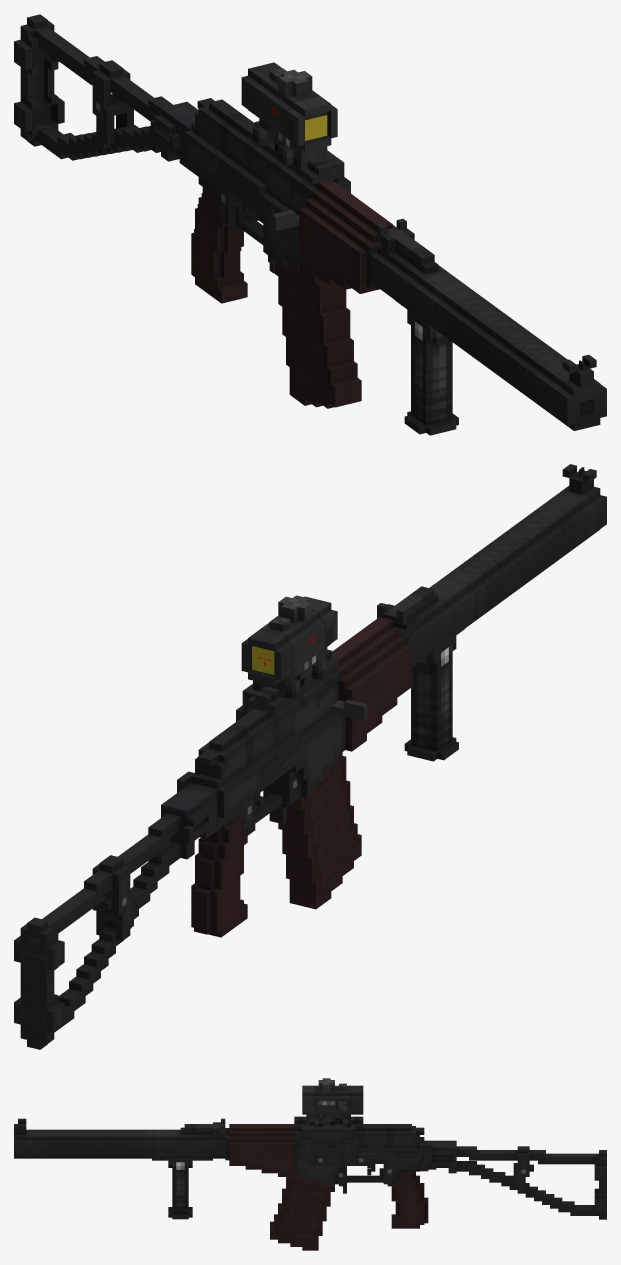
The model's file is RD_ASVAL.glb.
The picture shows the model from 3 angles, top to bottom: view 1: azimuth 30°, elevation 25°; view 2: azimuth 150°, elevation 25°; view 3: azimuth 270°, elevation 25°; orthographic projection. The views are drawn at different scales.
Visible parts, largest first — view 1: ASVAL, ASVAL_CLIP, SCOPE_TASCO, GRIP1, ASVAL_PLANK, SCOPE_AIMPOINT; view 2: ASVAL, ASVAL_CLIP, SCOPE_TASCO, GRIP1, ASVAL_PLANK; view 3: ASVAL, ASVAL_CLIP, ASVAL_PLANK (×2), SCOPE_TASCO, GRIP1, SCOPE_AIMPOINT.
Part boxes in pixels (x1,y1,x2,y2): ASVAL: [14, 14, 606, 430]; ASVAL_CLIP: [274, 262, 361, 408]; SCOPE_TASCO: [241, 62, 337, 165]; GRIP1: [395, 300, 458, 435]; ASVAL_PLANK: [248, 121, 350, 193]; SCOPE_AIMPOINT: [267, 112, 327, 169]; ASVAL: [14, 464, 606, 1049]; ASVAL_CLIP: [278, 752, 361, 909]; SCOPE_TASCO: [241, 595, 337, 699]; GRIP1: [404, 629, 464, 761]; ASVAL_PLANK: [236, 649, 338, 721]; ASVAL: [14, 1118, 606, 1228]; ASVAL_CLIP: [270, 1175, 334, 1250]; ASVAL_PLANK (×2): [294, 1116, 371, 1165]; SCOPE_TASCO: [302, 1078, 363, 1127]; GRIP1: [152, 1158, 212, 1219]; SCOPE_AIMPOINT: [306, 1103, 342, 1125].
Bounding box in the file's own units: 0.1181 × 0.4429 × 1.44.
Materials: 6 (6 with a texture image).
